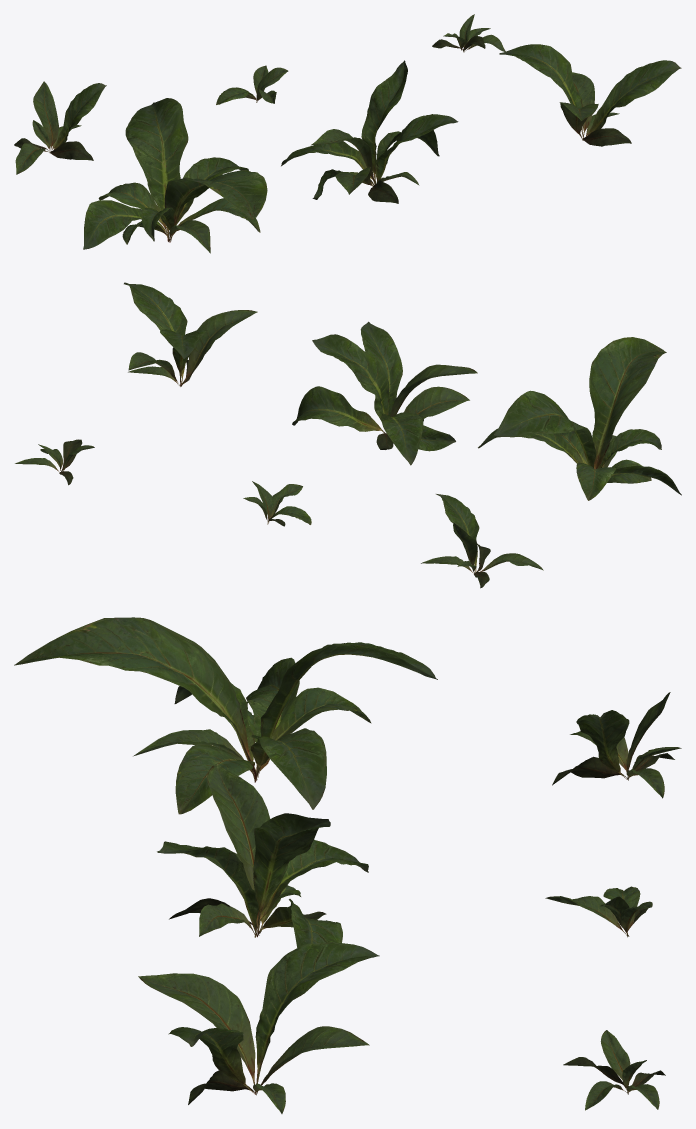
File: anthurium_botany_01.glb
3 views of the same model, one above another, from view 1: azimuth 30°, elevation 25°; view 2: azimuth 150°, elevation 25°; view 3: azimuth 270°, elevation 25° (orthographic). The views are drawn at different scales.
Visible parts, largest first — view 1: anthurium_botany_01_a, anthurium_botany_01_b, anthurium_botany_01_c, anthurium_botany_04_d, anthurium_botany_05_e, anthurium_botany_06_f; view 2: anthurium_botany_01_a, anthurium_botany_01_b, anthurium_botany_01_c, anthurium_botany_04_d, anthurium_botany_05_e, anthurium_botany_06_f; view 3: anthurium_botany_01_a, anthurium_botany_01_b, anthurium_botany_01_c, anthurium_botany_04_d, anthurium_botany_06_f, anthurium_botany_05_e.
Part boxes in pixels (x1,y1,x2,y2): anthurium_botany_01_a: [83, 98, 267, 253]; anthurium_botany_01_b: [281, 60, 458, 203]; anthurium_botany_01_c: [499, 44, 681, 146]; anthurium_botany_04_d: [14, 81, 106, 174]; anthurium_botany_05_e: [216, 65, 288, 104]; anthurium_botany_06_f: [432, 14, 505, 52]; anthurium_botany_01_a: [478, 337, 681, 500]; anthurium_botany_01_b: [292, 321, 477, 465]; anthurium_botany_01_c: [124, 282, 257, 386]; anthurium_botany_04_d: [421, 494, 543, 588]; anthurium_botany_05_e: [243, 481, 311, 526]; anthurium_botany_06_f: [15, 439, 94, 485]; anthurium_botany_01_a: [14, 617, 437, 814]; anthurium_botany_01_b: [157, 763, 368, 947]; anthurium_botany_01_c: [138, 942, 379, 1113]; anthurium_botany_04_d: [552, 692, 681, 798]; anthurium_botany_06_f: [563, 1030, 665, 1110]; anthurium_botany_05_e: [545, 886, 652, 937].
Bounding box in the file's own units: 2.8 × 0.4996 × 1.8.
Materials: 1 (1 with a texture image).
